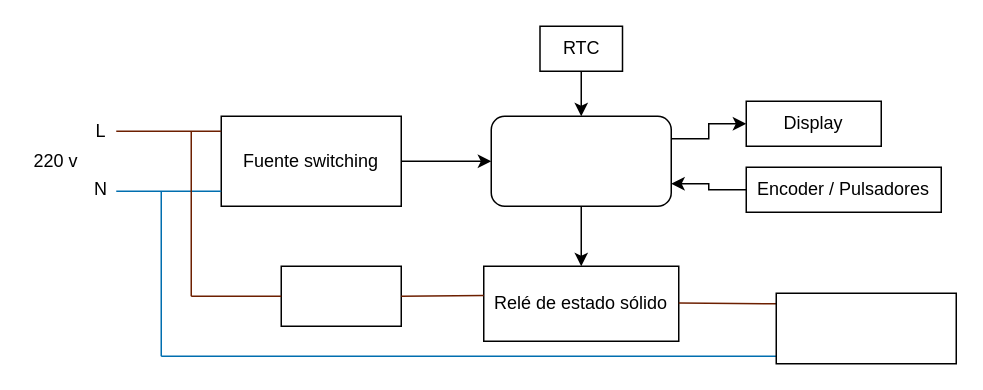
The diagram is 983 pixels wide and 390 high, and some of its shapes have lost their labels. Each missing label, with the centre of its shape:
"Arduino" goes at (580,160).
"Equipo a controlar" goes at (865,328).
"Protección" goes at (340,295).
